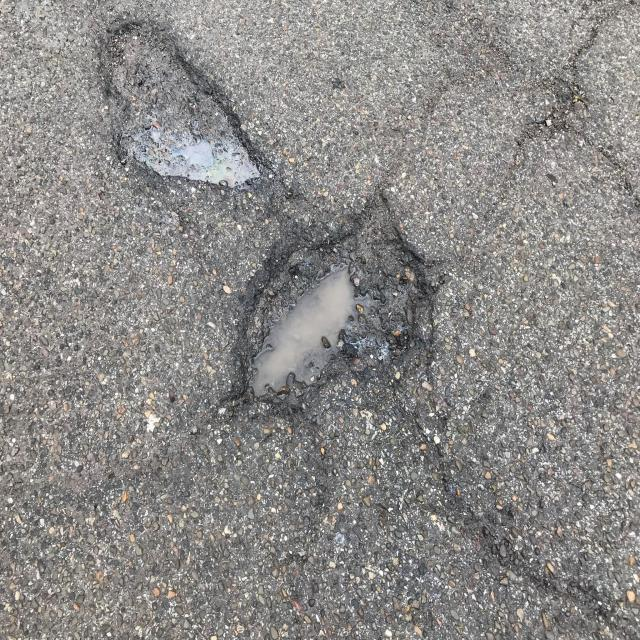Pothole: (236, 200, 438, 420), (96, 18, 261, 185)
